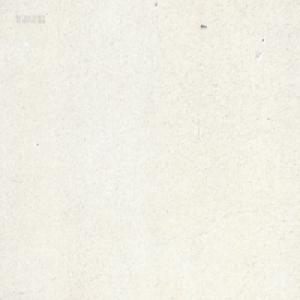Nail: (200, 23, 206, 28)
